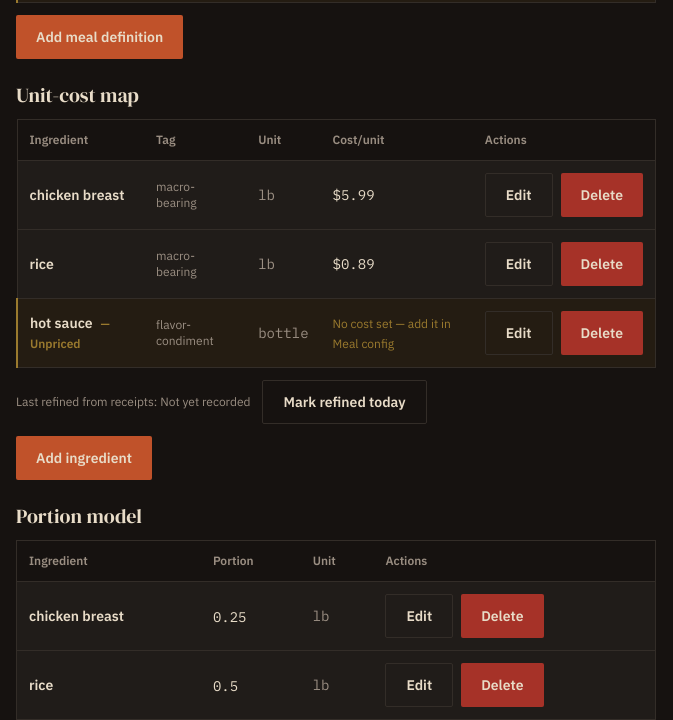
Test case: FoodConfigPage › I-05 new-row tag default: clicking "Add ingredient" shows new row with "macro-bearing" tag default
(page scrolled)
What coordinates should you click on to do the following:
click the button "Add ingredient"
I would click on:
 (84, 458)
Its box is [16,436,152,480].
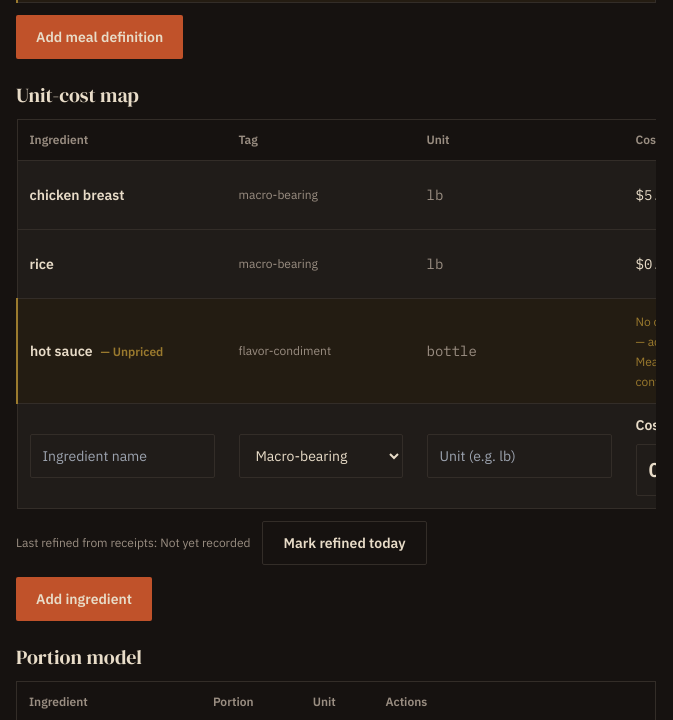
Expected: the row with test id "new-ingredient-row" is shown, [17,404,656,508]
Expected: the dropdown named "Tag" shows "Macro-bearing", [238,434,402,478]
